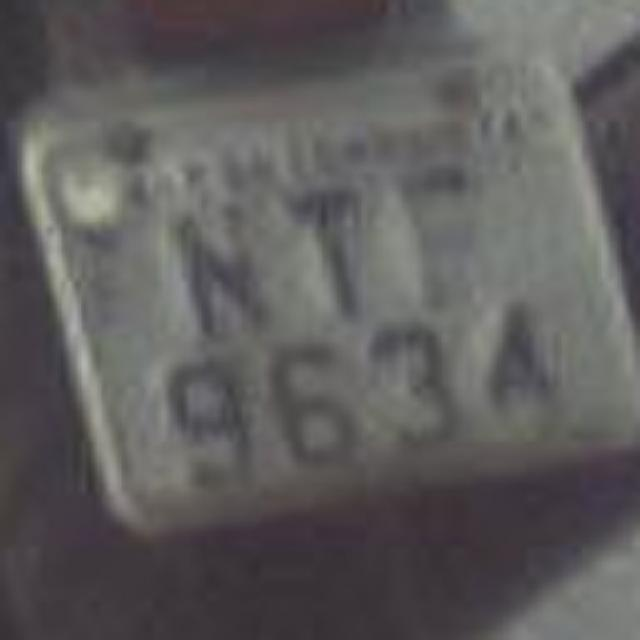3: (348, 292, 472, 460)
4: (460, 264, 585, 444)
6: (248, 324, 372, 488)
9: (148, 332, 268, 500)
N: (152, 188, 280, 348), (400, 155, 492, 300)
T: (272, 180, 392, 315)
